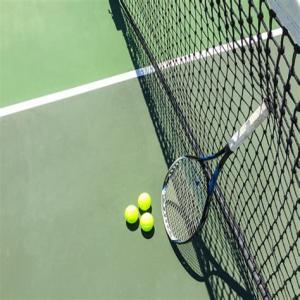Tennis: (139, 210, 156, 235), (136, 192, 153, 214), (124, 203, 138, 226)
